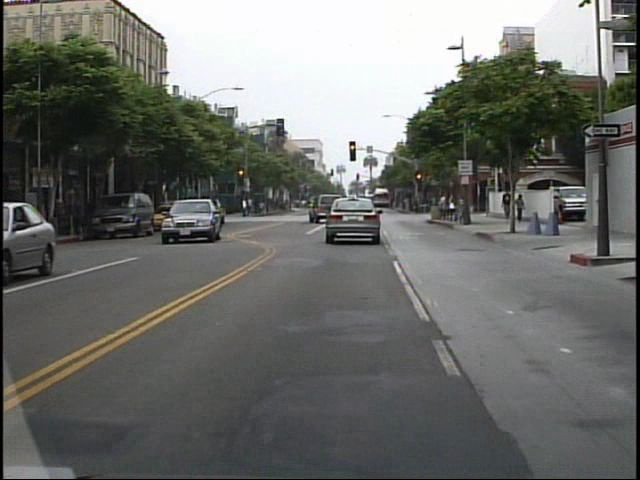person: (436, 189, 455, 223), (500, 186, 515, 226), (514, 189, 529, 225), (242, 193, 251, 219)
